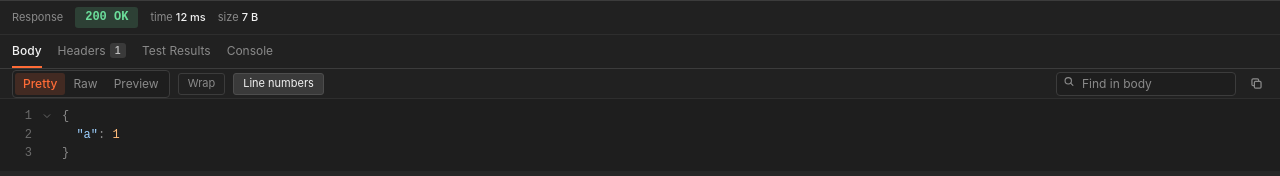
ResponsePane › collapses a JSON block from the gutter and restores it
Click the button named "Collapse lines 1 to 3": (47, 116) [40,107,54,126]
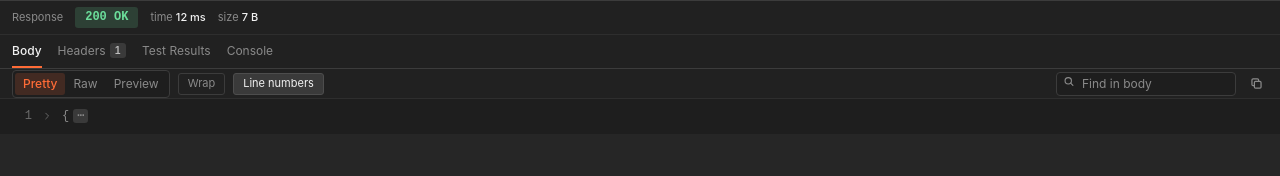
Click the button named "Expand lines 1 to 3": (47, 116) [40,107,54,126]
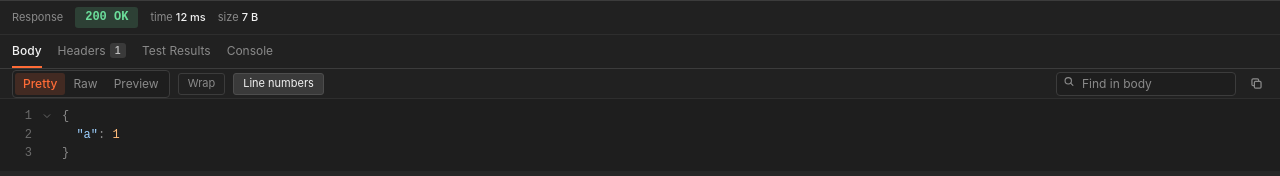
Check: the element with class "code-view-body" shows "\"a\"", box [76,128,98,142]
